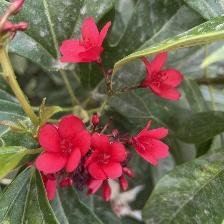jatropha: (33, 112, 94, 176), (56, 16, 114, 68), (141, 50, 186, 108), (88, 130, 128, 180), (135, 118, 174, 169)
